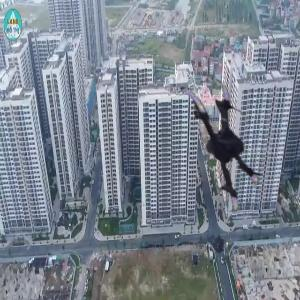drone: (146, 81, 279, 214)
